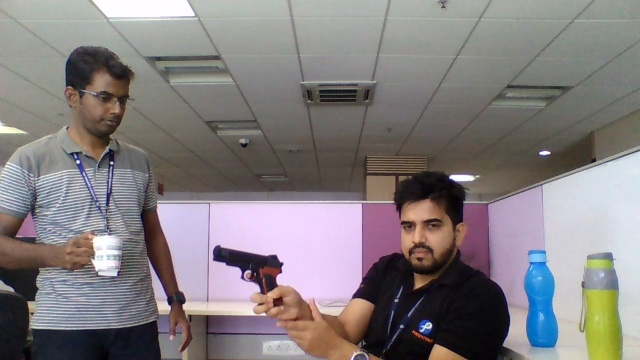gun: (212, 246, 285, 286)
